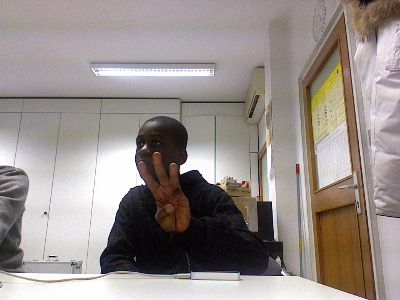三分: (136, 151, 190, 233)
